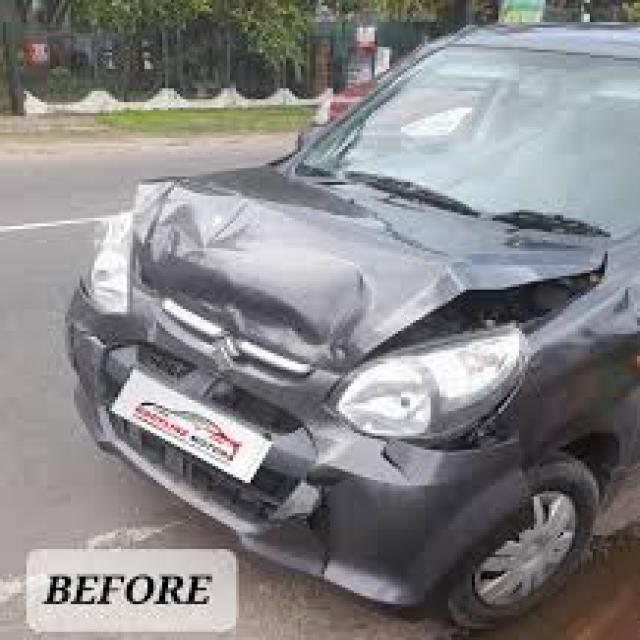Dent: (139, 185, 604, 369), (378, 271, 601, 353)
